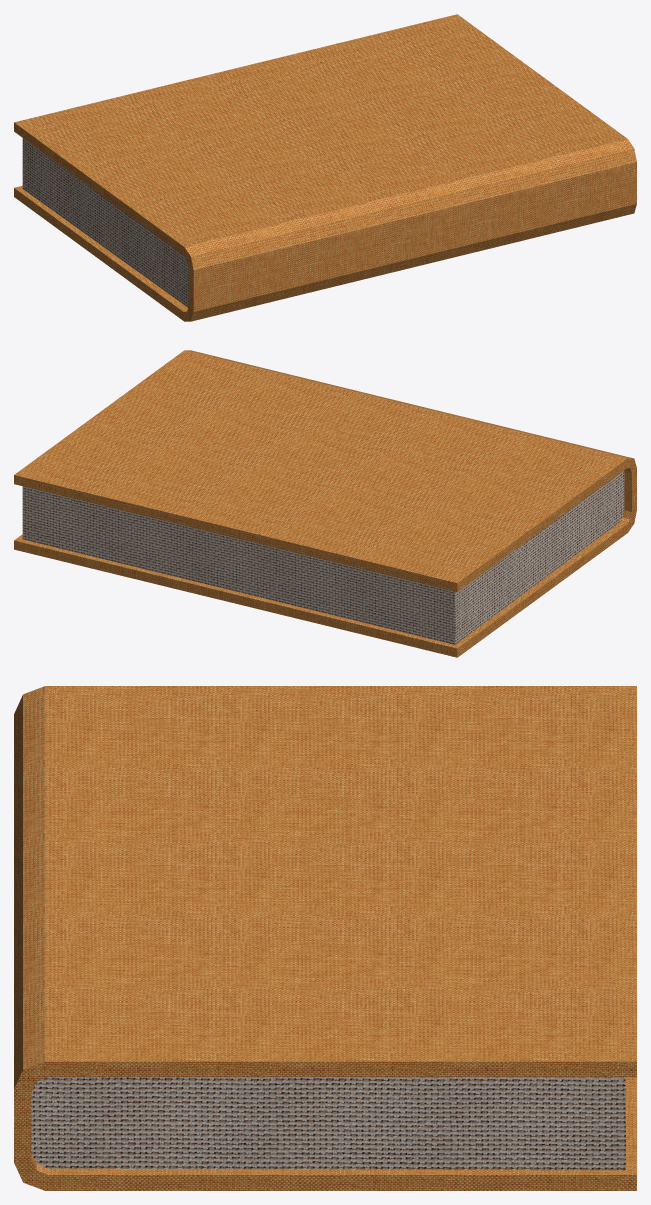
File: book2.glb
3 views of the same model, one above another, from view 1: azimuth 30°, elevation 25°; view 2: azimuth 150°, elevation 25°; view 3: azimuth 270°, elevation 25° (orthographic). The views are drawn at different scales.
Visible parts, largest first — view 1: Book2; view 2: Book2; view 3: Book2.
Boxes of the visible parts, x1,y1,x2,y2 form: Book2: (14,14,636,321); Book2: (14,350,636,657); Book2: (14,686,636,1190).
Bounding box in the file's own units: 0.5111 × 0.0821 × 0.3584.
2 materials, 2 textured.
